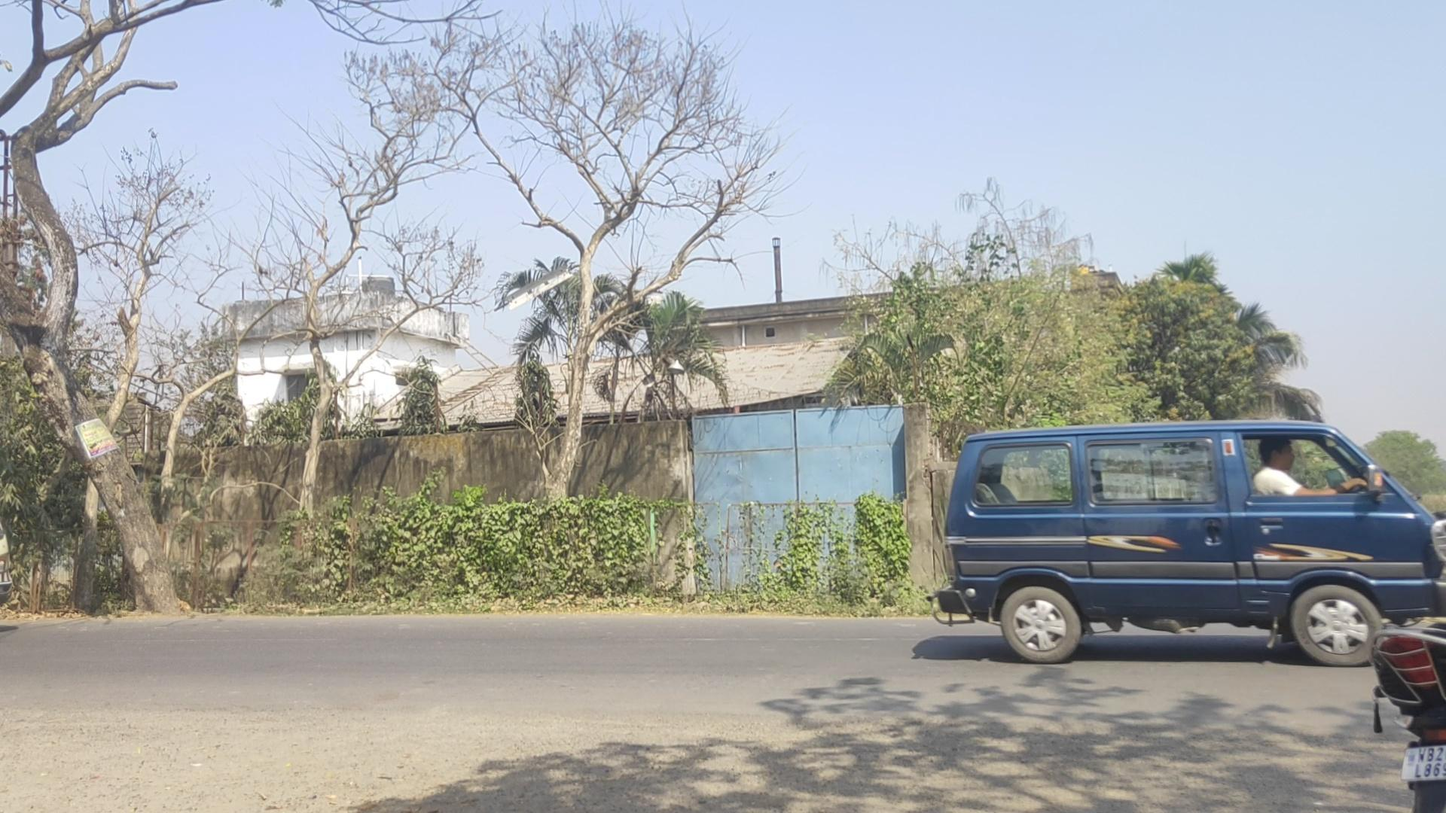van: (926, 419, 1446, 667)
